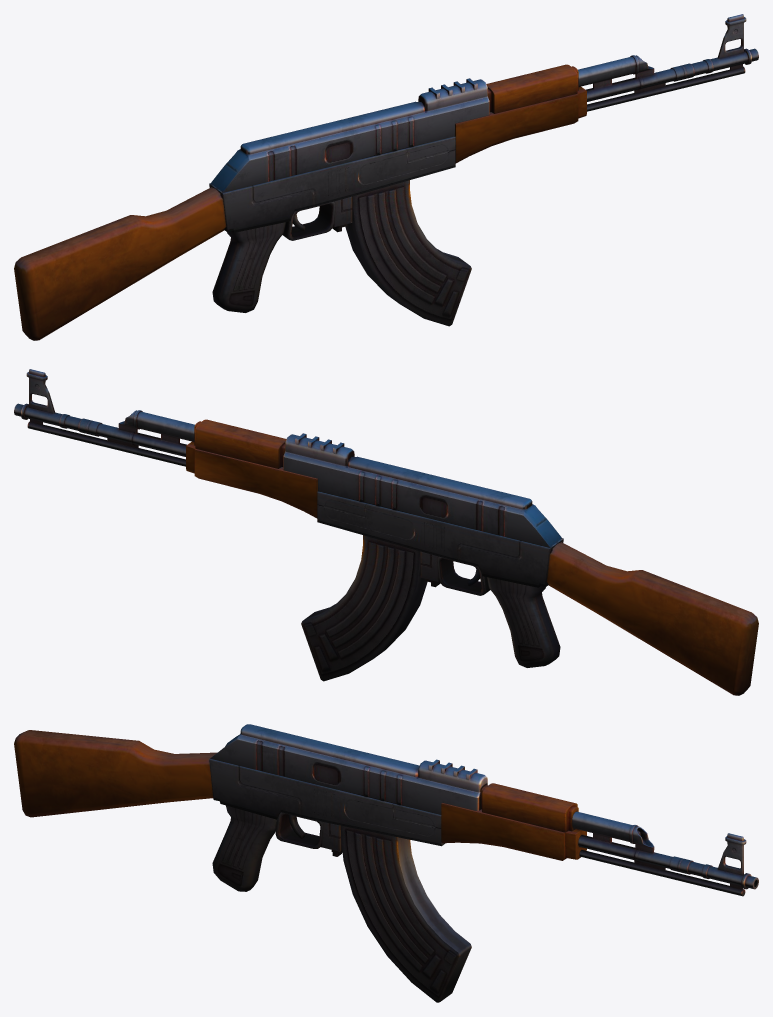
File: bunker47-gun-ak47.glb
The picture shows the model from 3 angles, top to bottom: view 1: azimuth 30°, elevation 25°; view 2: azimuth 150°, elevation 25°; view 3: azimuth 330°, elevation 25°; orthographic projection.
Parts seen in each view (by area): view 1: ak47, akderriere_low, akmagazine_low; view 2: ak47, akderriere_low, akmagazine_low; view 3: ak47, akderriere_low, akmagazine_low.
Part boxes in pixels (x1,y1,x2,y2): ak47: (209, 14, 758, 312); akderriere_low: (14, 187, 226, 340); akmagazine_low: (345, 180, 471, 326); ak47: (14, 369, 563, 667); akderriere_low: (546, 542, 758, 695); akmagazine_low: (301, 535, 427, 681); ak47: (209, 724, 758, 896); akderriere_low: (14, 730, 216, 817); akmagazine_low: (340, 825, 471, 1002).
Bounding box in the file's own units: 0.743 × 0.2256 × 0.0253.
1 material, 1 textured.
